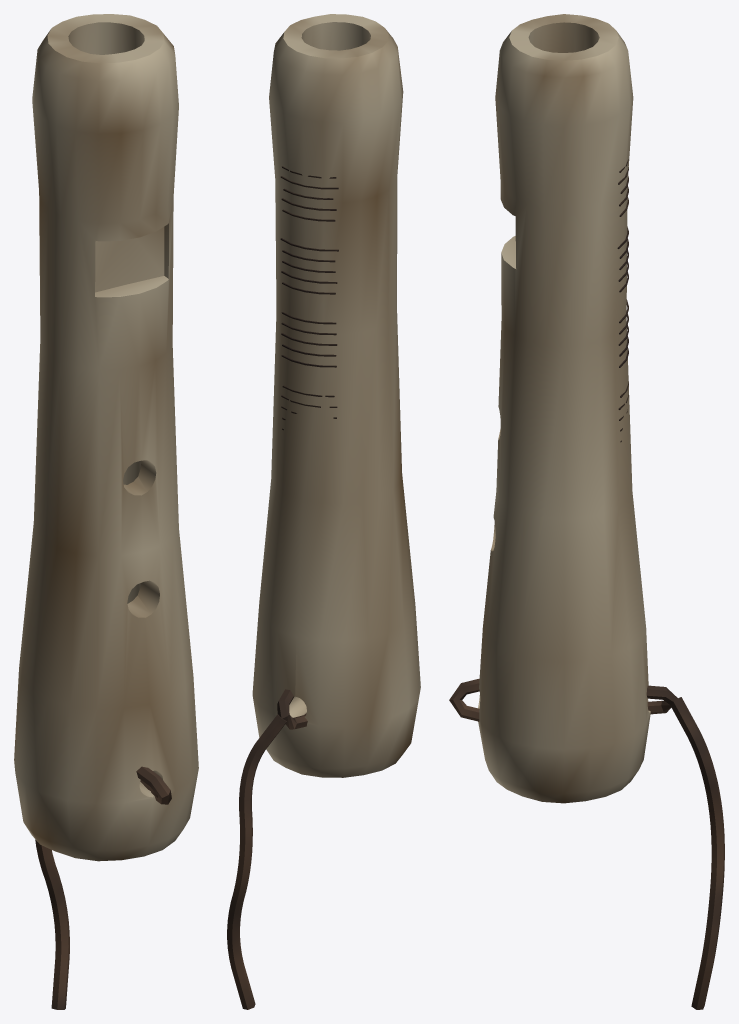
File: bone-whistle.glb
3 renders of one model, left to right at view 1: azimuth 30°, elevation 25°; view 2: azimuth 150°, elevation 25°; view 3: azimuth 270°, elevation 25°, orthographic. The views are drawn at different scales.
Visible parts, largest first — view 1: bone-whistle; view 2: bone-whistle; view 3: bone-whistle.
Boxes of the visible parts, bbox=[...] form: bone-whistle: bbox=[14, 14, 198, 1009]; bone-whistle: bbox=[227, 14, 420, 1009]; bone-whistle: bbox=[449, 14, 724, 1009].
Bounding box in the file's own units: 0.0184 × 0.1123 × 0.0292.
